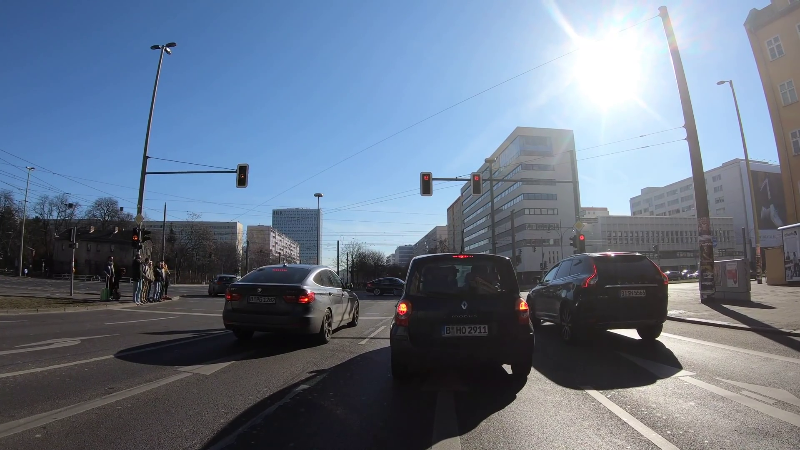Plate: (438, 322, 493, 338), (613, 286, 651, 300), (243, 294, 279, 306)
